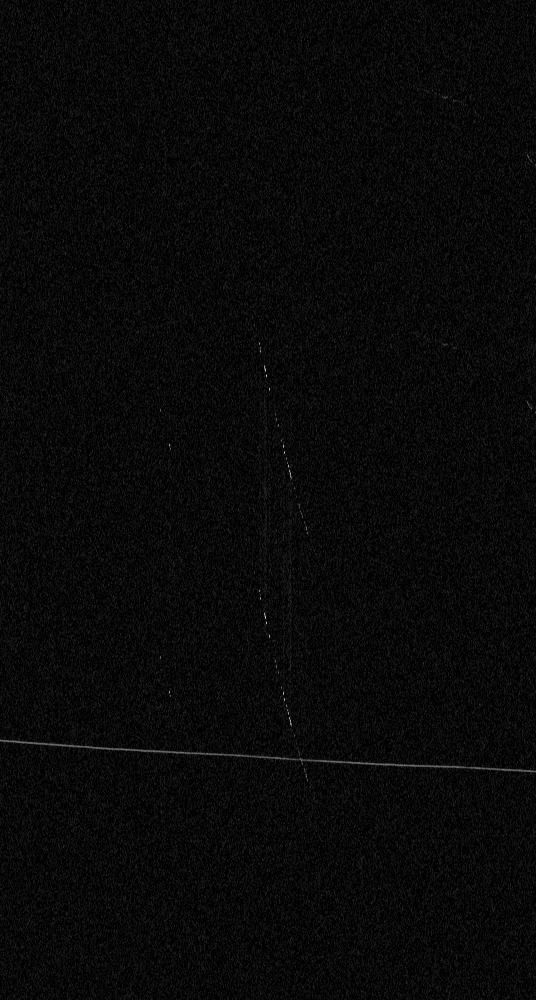signal: (0, 0, 535, 999)
